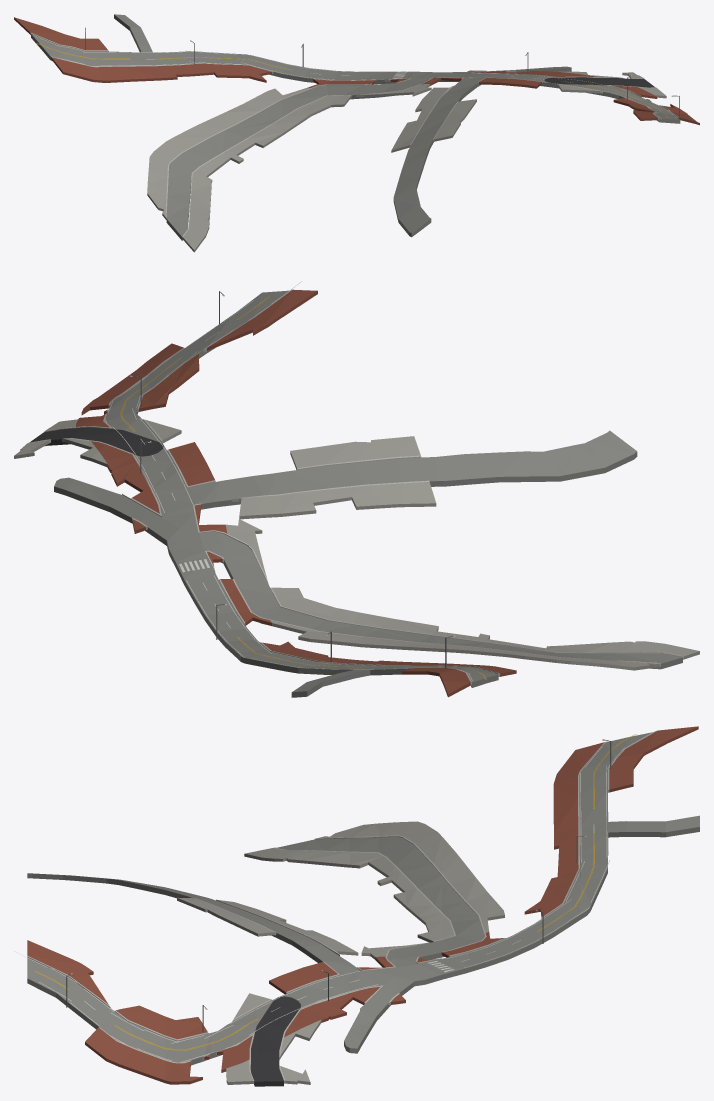
The model's file is 18-218875-118978.d14cff13.glb.
The picture shows the model from 3 angles, top to bottom: view 1: azimuth 30°, elevation 25°; view 2: azimuth 150°, elevation 25°; view 3: azimuth 270°, elevation 25°; orthographic projection. The views are drawn at different scales.
Size of the model in its own units: 148 by 32.96 by 149.
